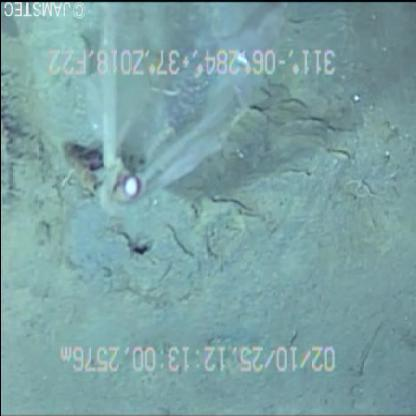Rác: (61, 1, 287, 234)
